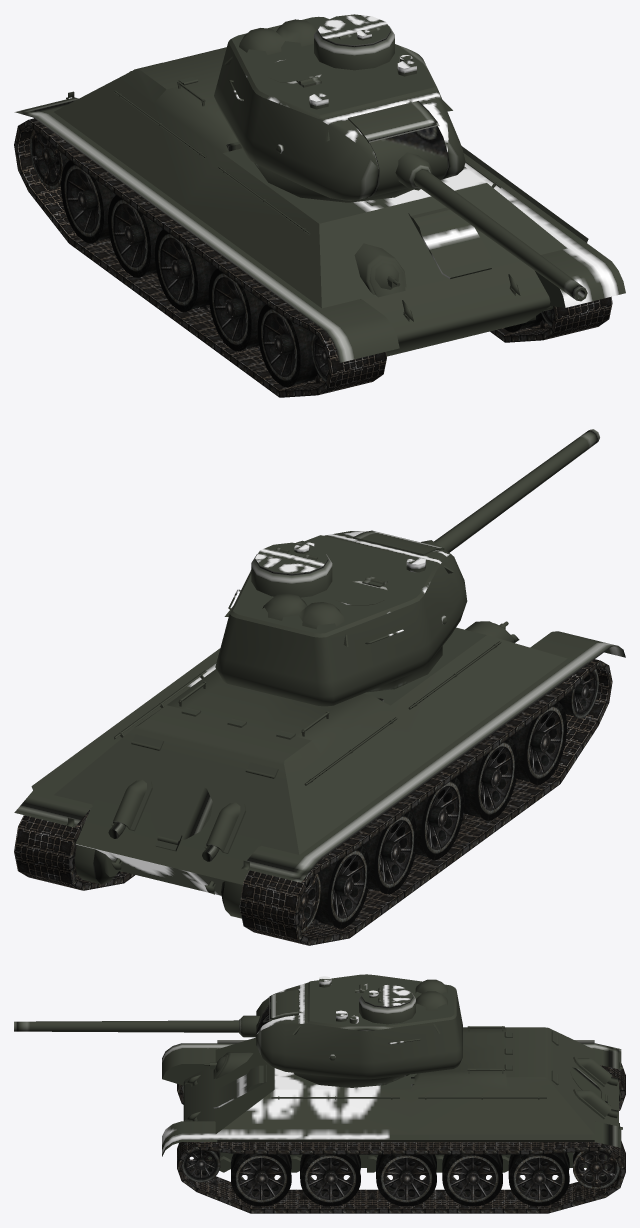
File: T34_85_model_track.FBX
3 renders of one model, top to bottom at view 1: azimuth 30°, elevation 25°; view 2: azimuth 150°, elevation 25°; view 3: azimuth 270°, elevation 25°, orthographic. The views are drawn at different scales.
Parts seen in each view (by area): view 1: body, turret, Righttrack, cannon, Lefttrack; view 2: body, turret, Righttrack, Lefttrack, cannon; view 3: body, Lefttrack, turret, cannon, Righttrack.
Part boxes in pixels (x1,y1,x2,y2): body: [14, 47, 625, 362]; turret: [214, 14, 465, 202]; Righttrack: [14, 118, 386, 397]; cannon: [369, 126, 587, 301]; Lefttrack: [490, 296, 612, 342]; body: [14, 621, 625, 918]; turret: [215, 530, 467, 706]; Righttrack: [239, 659, 612, 945]; Lefttrack: [14, 809, 134, 890]; cannon: [421, 429, 599, 552]; body: [162, 1026, 622, 1172]; Lefttrack: [177, 1141, 625, 1213]; turret: [256, 974, 462, 1087]; cannon: [14, 998, 269, 1037]; Righttrack: [177, 1063, 625, 1110].
Size of the model in its own units: 3 by 2.56 by 7.76.
